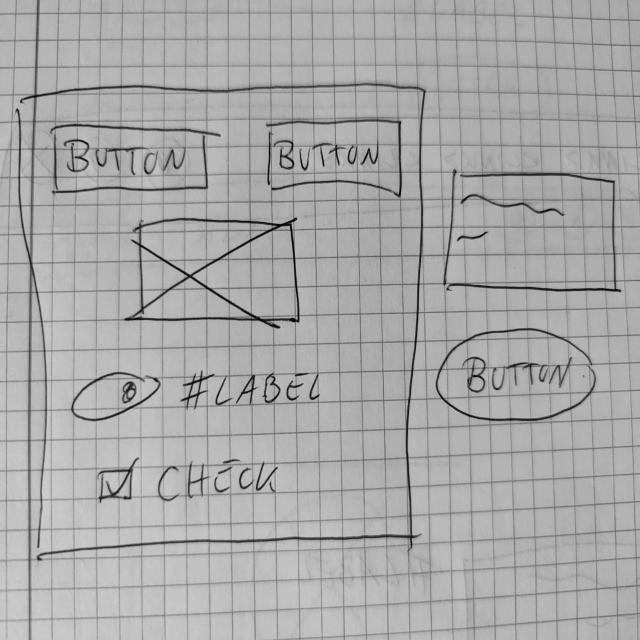button: (436, 326, 599, 424), (49, 118, 213, 198), (265, 115, 408, 199)
checkbox: (97, 456, 282, 509)
container: (15, 81, 430, 562)
image: (130, 215, 304, 326)
label: (182, 365, 329, 416)
textarea: (442, 167, 621, 298)
toggle: (70, 368, 163, 424)
